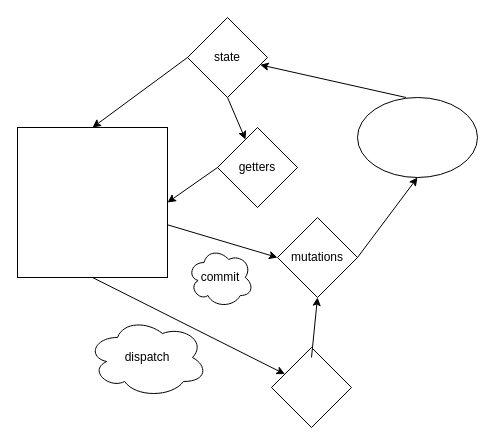
Some shapes in this 495 by 445 pixel diagram are drawn without their labels. The shapes that lost their labels are listed below. From the top down, each one's centre as x and y in pixels, then its label:
point (417, 137): 仓库（全局状态）
point (92, 202): 组件树
point (311, 387): actions
